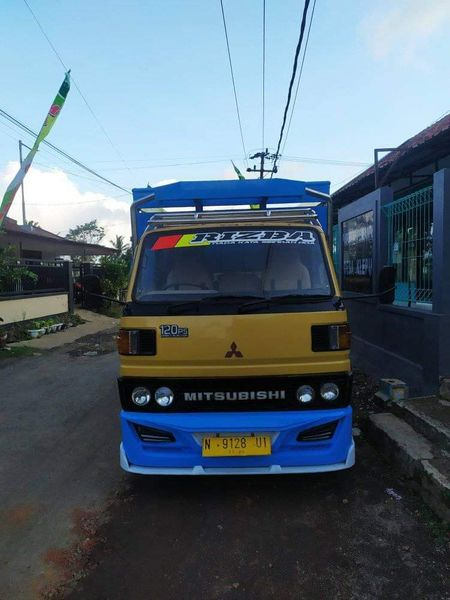plate: (203, 432, 272, 458)
